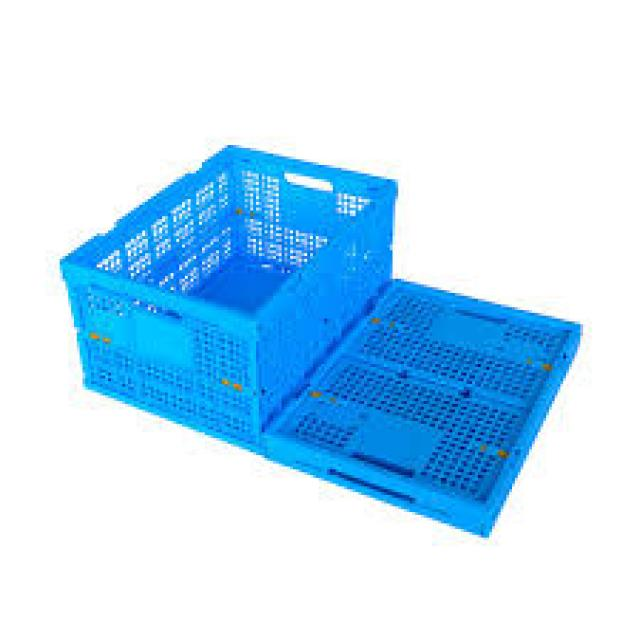basket: (36, 121, 412, 470), (257, 224, 591, 560)
